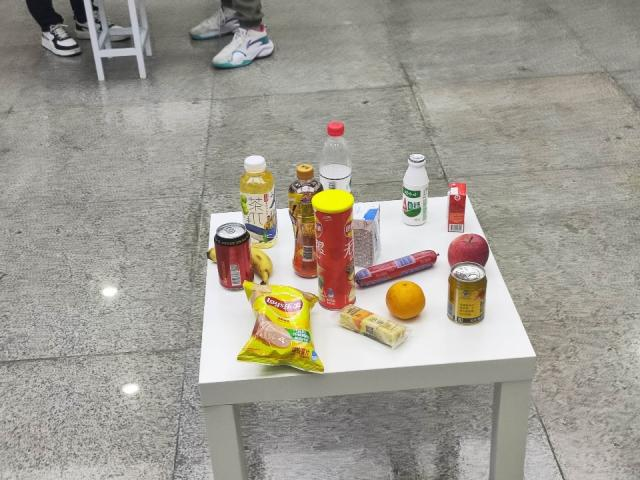Canned_drinks: (444, 258, 488, 327), (214, 222, 256, 291)
cylinder: (312, 190, 359, 310)
